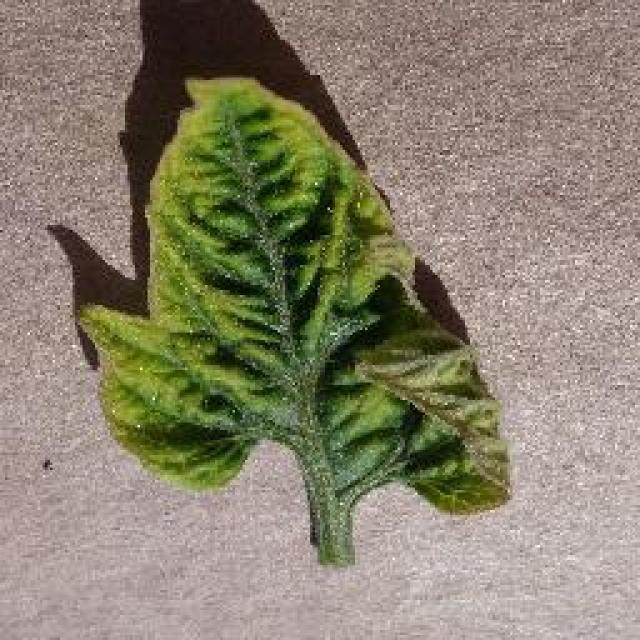Tomato yellow virus leaf: (74, 75, 514, 520)
